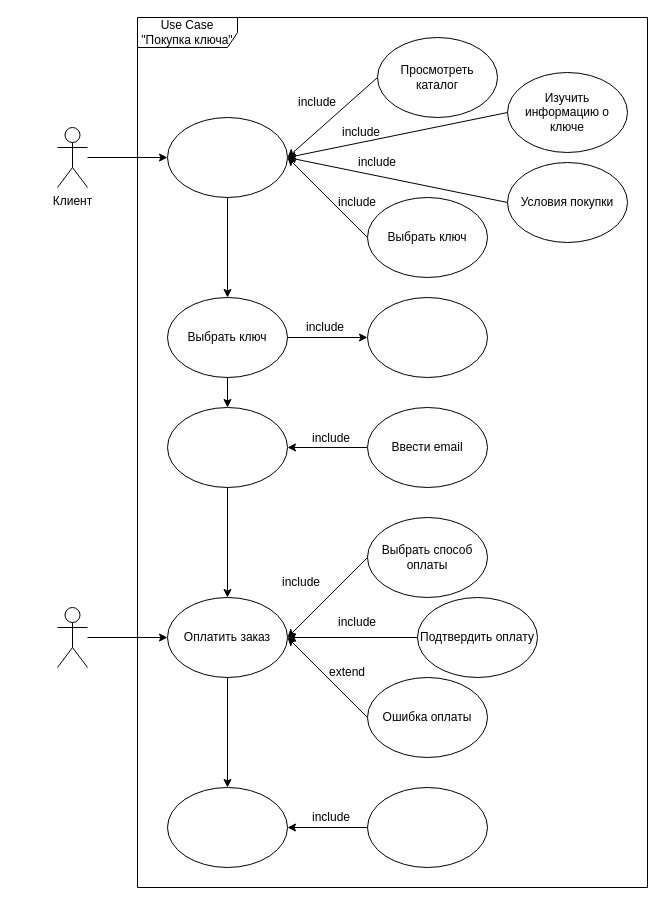
Some shapes in this 665 by 905 pixel diagram are drawn without their labels. The shapes that lost their labels are listed below. From the top down, each one's box as (x1, y1, x2, y2) in pixels, then its label:
(166, 116, 288, 198): Зайти на сайт
(366, 296, 488, 378): Добавить в корзину
(166, 406, 288, 488): Оформить заказ
(56, 606, 88, 668): Платежная система
(166, 786, 288, 868): Получить ключ
(366, 786, 488, 868): Отправить на email
